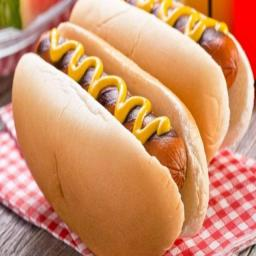hotdog: (8, 17, 207, 256), (70, 0, 256, 169)
